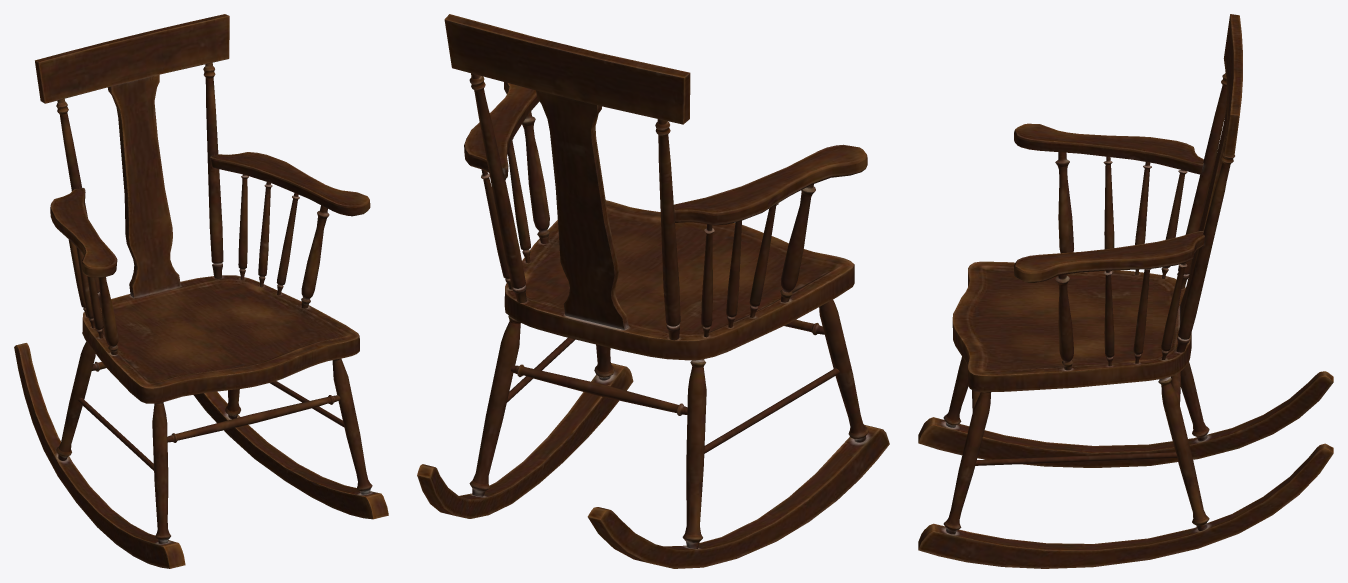
The model's file is Rockingchair_01.glb.
The picture shows the model from 3 angles, left to right: view 1: azimuth 30°, elevation 25°; view 2: azimuth 150°, elevation 25°; view 3: azimuth 270°, elevation 25°; orthographic projection. The views are drawn at different scales.
Visible parts, largest first — view 1: Rockingchair_01; view 2: Rockingchair_01; view 3: Rockingchair_01.
Part boxes in pixels (x1,y1,x2,y2): Rockingchair_01: (14,14,388,568); Rockingchair_01: (417,14,889,568); Rockingchair_01: (918,14,1333,568).
Size of the model in its own units: 0.7081 by 0.9949 by 0.8335.
1 material, 1 textured.
